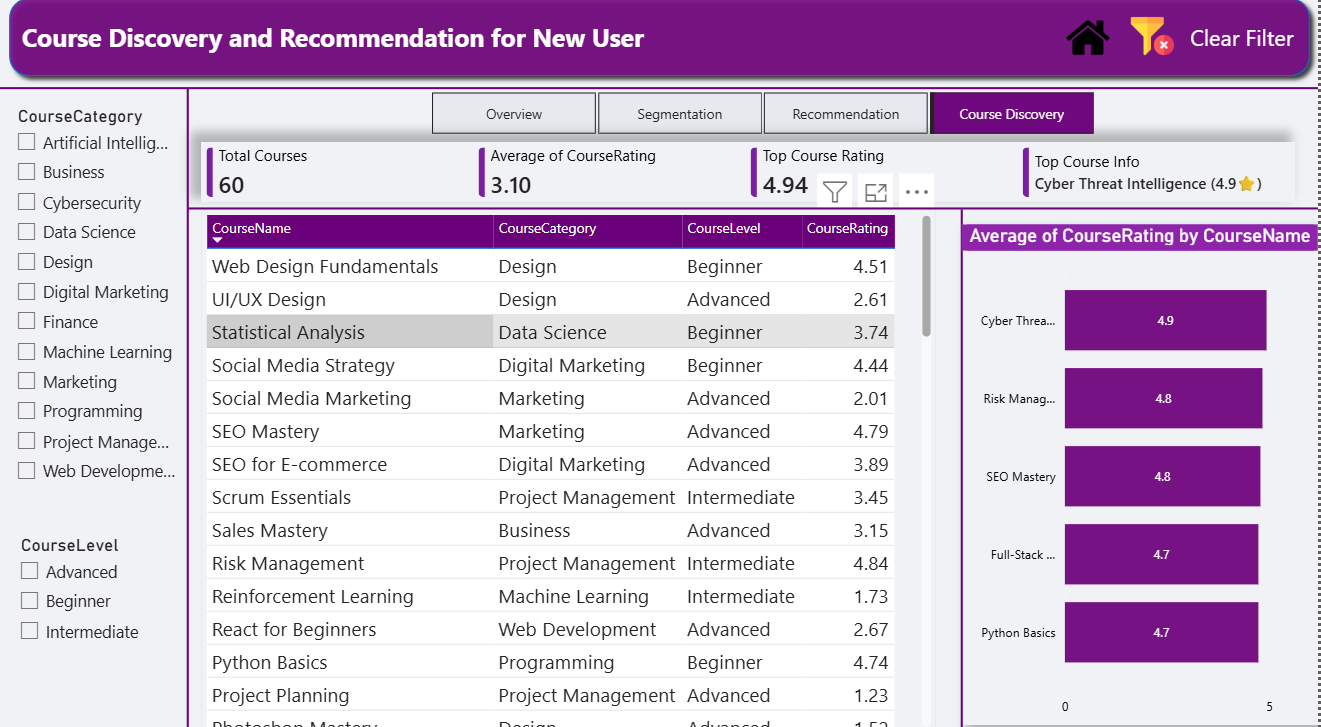

Layout of this report page (visuals, bound fields, positions):
{"tool":"powerbi","page":{"name":"Course Discovery ","canvas":[1280,720],"ordinal":3},"visuals":[{"type":"slicer","fields":{"Values":["Courses.CourseCategory"]},"box":[5,108.3,171.7,383.3],"z":0},{"type":"cardVisual","fields":{"Data":["Courses.Total Courses","Avg(Courses.CourseRating)","Courses.Top Course Rating","Courses.Top Course Info"]},"box":[195.6,148.5,1061.8,58.8],"z":1000},{"type":"tableEx","fields":{"Values":["Courses.CourseName","Courses.CourseCategory","Courses.CourseLevel","Courses.CourseRating"]},"box":[195,213.3,713.3,506.7],"z":2000},{"type":"shape","box":[0,0,1280,93.3],"z":3000},{"type":"textbox","box":[15.4,24.6,700,49.2],"z":4000},{"type":"shape","box":[0,80,1280,32.3],"z":5000},{"type":"shape","box":[156.7,96.7,50,623.3],"z":6000},{"type":"shape","box":[181.7,198.3,1098.3,30],"z":7000},{"type":"textbox","box":[1150,26.7,120,45],"z":8000},{"type":"image","box":[1086.7,25,61.7,41.7],"z":9000},{"type":"image","box":[1025,26.7,61.7,41.7],"z":10000},{"type":"slicer","fields":{"Values":["Courses.CourseLevel"]},"box":[6.7,523.3,171.7,140],"z":11000},{"type":"shape","box":[908.3,213.3,50,506.7],"z":12000},{"type":"clusteredBarChart","fields":{"Category":["Courses.CourseName"],"Y":["Avg(Courses.CourseRating)"]},"box":[933.3,228.3,346.7,486],"z":13000},{"type":"pageNavigator","box":[418.8,100,642,40.6],"z":14000}]}

Visuals, with their boxes in screenshot pixels (x1, y1, x2, y2), scaled from the page's 1280x720 canvas onto the 1321x727 screenshot:
slicer - Courses.CourseCategory: bbox=(5, 109, 182, 496)
cardVisual - Courses.Total Courses x Avg(Courses.CourseRating): bbox=(202, 150, 1298, 209)
tableEx - Courses.CourseName x Courses.CourseCategory: bbox=(201, 215, 937, 726)
shape: bbox=(0, 0, 1320, 94)
textbox: bbox=(16, 25, 738, 75)
shape: bbox=(0, 81, 1320, 113)
shape: bbox=(162, 98, 213, 726)
shape: bbox=(188, 200, 1320, 231)
textbox: bbox=(1187, 27, 1311, 72)
image: bbox=(1122, 25, 1185, 67)
image: bbox=(1058, 27, 1122, 69)
slicer - Courses.CourseLevel: bbox=(7, 528, 184, 670)
shape: bbox=(937, 215, 989, 726)
clusteredBarChart - Courses.CourseName x Avg(Courses.CourseRating): bbox=(963, 231, 1320, 721)
pageNavigator: bbox=(432, 101, 1095, 142)
